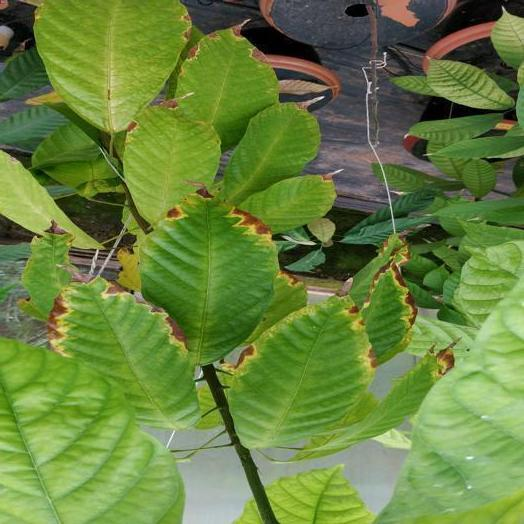Potassium: (227, 279, 375, 447), (139, 188, 278, 363), (48, 274, 199, 429), (176, 20, 279, 150), (123, 93, 221, 224), (350, 235, 416, 363)
